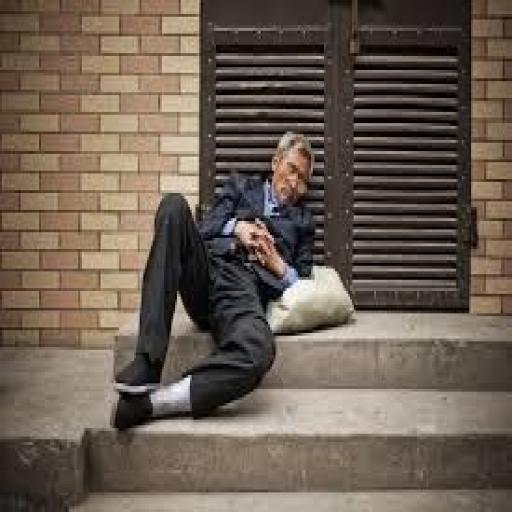sleeping: (108, 126, 316, 434)
